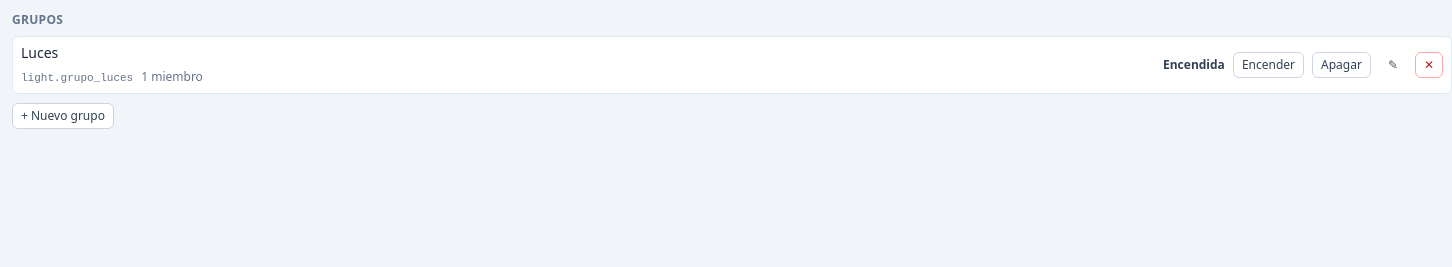
renombrar un grupo › actualiza las automatizaciones y conserva el estado en la simulación
The width and height of the screenshot is (1452, 267).
Click the button named "Editar Luces".
click(1393, 65)  # box [1379, 52, 1407, 78]
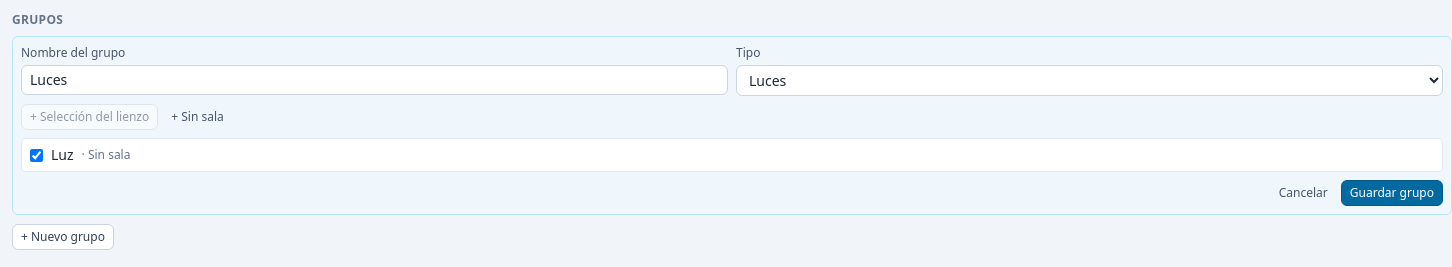
Replace the text in the field labelled "Nombre del grupo" with "Salón" at point(374, 80), box [21, 65, 728, 95]
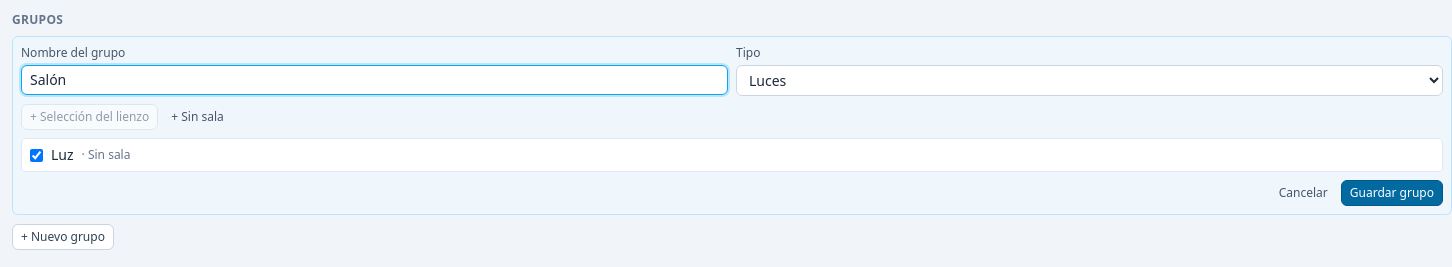
Click the button "Guardar grupo".
click(1392, 193)  # box [1341, 180, 1443, 206]
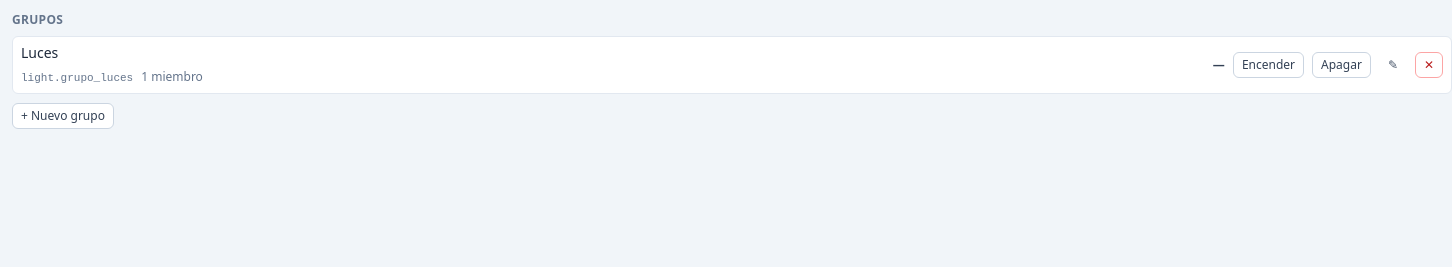
Expected: the text "Luces" is shown, [21, 43, 58, 62]
